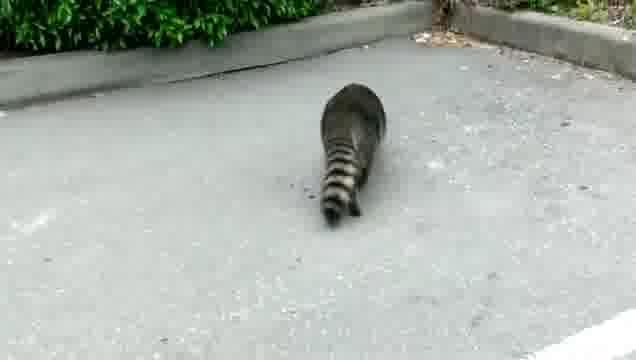raccoon: (315, 81, 391, 229)
